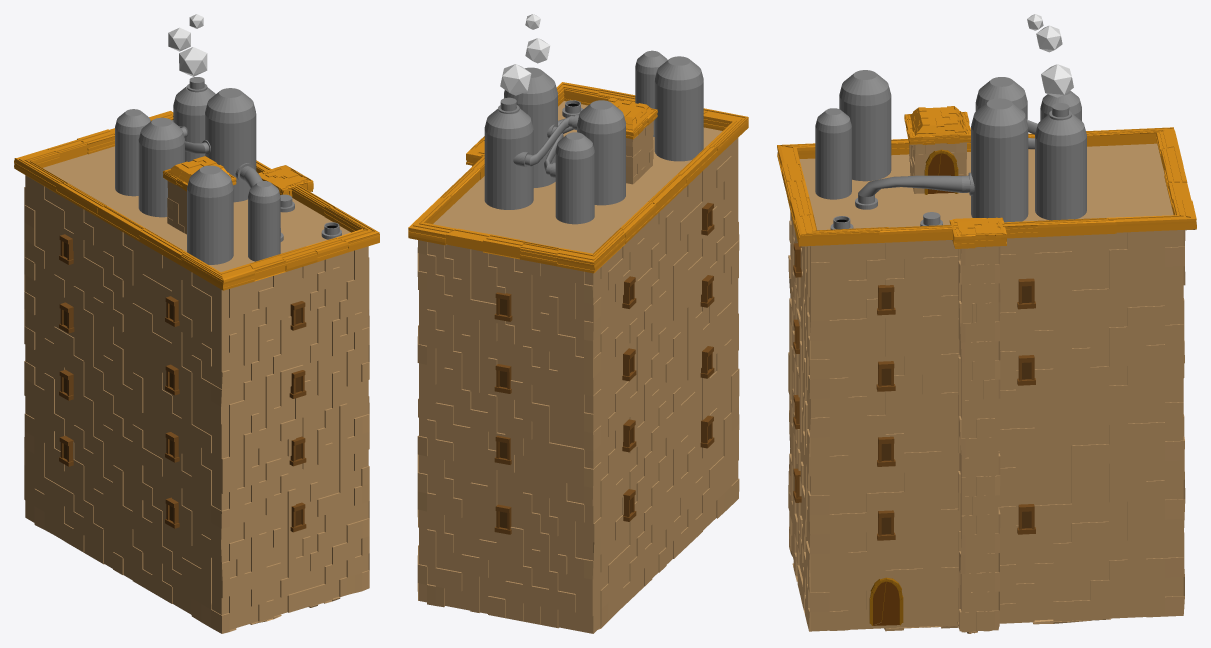
File: Apartment_Building_4.fbx
3 views of the same model, side by side, from view 1: azimuth 30°, elevation 25°; view 2: azimuth 150°, elevation 25°; view 3: azimuth 270°, elevation 25° (orthographic). The views are drawn at different scales.
Parts seen in each view (by area): view 1: Cube.475, Cylinder.855, Cylinder.853, Cylinder.848, Cylinder.854, Cylinder.850, Cylinder.852, Icosphere.060; view 2: Cube.475, Cylinder.855, Cylinder.852, Cylinder.848, Cylinder.850, Cylinder.853, Cylinder.854, Cylinder.863, Icosphere.060; view 3: Cube.475, Cylinder.853, Cylinder.852, Cylinder.855, Cylinder.854, Cylinder.858, Cube.444, Cylinder.848, Cube.498, Icosphere.060, Cylinder.850.
Part boxes in pixels (x1,y1,x2,y2): Cube.475: (14,111,379,633); Cylinder.855: (187,165,233,264); Cylinder.853: (205,88,256,202); Cylinder.848: (138,117,184,217); Cylinder.854: (248,181,280,261); Cylinder.850: (115,109,150,196); Cylinder.852: (173,86,215,161); Icosphere.060: (179,47,207,76); Cube.475: (408,82,748,633); Cylinder.855: (654,56,703,161); Cylinder.852: (484,108,533,209); Cylinder.848: (577,100,625,205); Cylinder.850: (555,132,594,224); Cylinder.853: (504,67,557,187); Cylinder.854: (635,50,667,136); Cylinder.863: (513,115,578,166); Icosphere.060: (500,64,531,95); Cube.475: (777,106,1196,633); Cylinder.853: (971,98,1028,222); Cylinder.852: (1035,113,1086,220); Cylinder.855: (839,70,891,181); Cylinder.854: (815,108,851,199); Cylinder.858: (855,172,974,209); Cube.444: (869,577,903,625); Cylinder.848: (975,77,1027,119); Cube.498: (924,149,958,194); Icosphere.060: (1041,64,1073,97); Cylinder.850: (1040,90,1081,120).
Size of the model in its own units: 1395 by 3452 by 2258.
